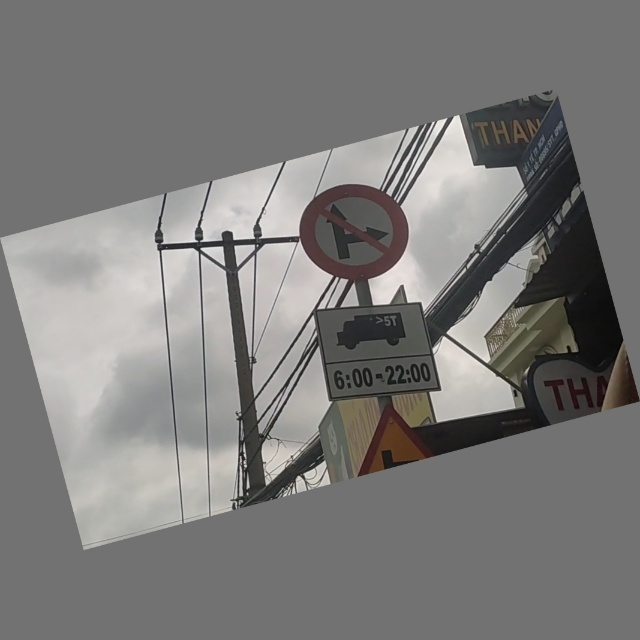P.139: (284, 170, 419, 294)
S.505a*Xe tai: (309, 285, 441, 410)
W.205b: (335, 392, 444, 479)
